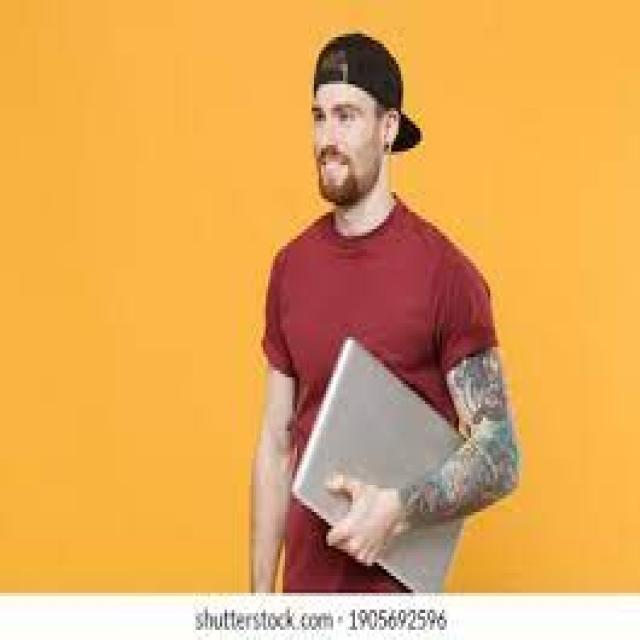cap: (294, 17, 440, 172)
